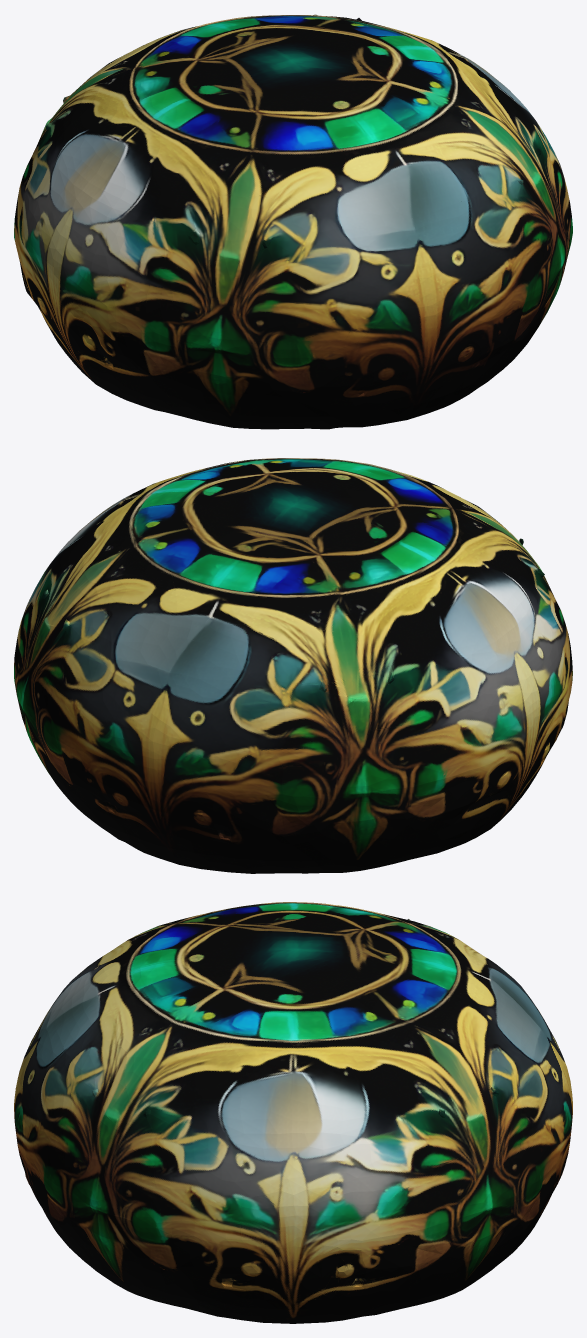
Rendered from ceramic-paperweight-art-deco.jpeg.glb.
3 renders of one model, top to bottom at view 1: azimuth 30°, elevation 25°; view 2: azimuth 150°, elevation 25°; view 3: azimuth 270°, elevation 25°, orthographic.
Visible parts, largest first — view 1: world; view 2: world; view 3: world.
Part boxes in pixels (bbox=[...]): world: bbox=[14, 14, 572, 429]; world: bbox=[14, 458, 572, 873]; world: bbox=[14, 902, 572, 1323].
Bounding box in the file's own units: 0.9951 × 0.557 × 0.9978.
1 material, 1 textured.
